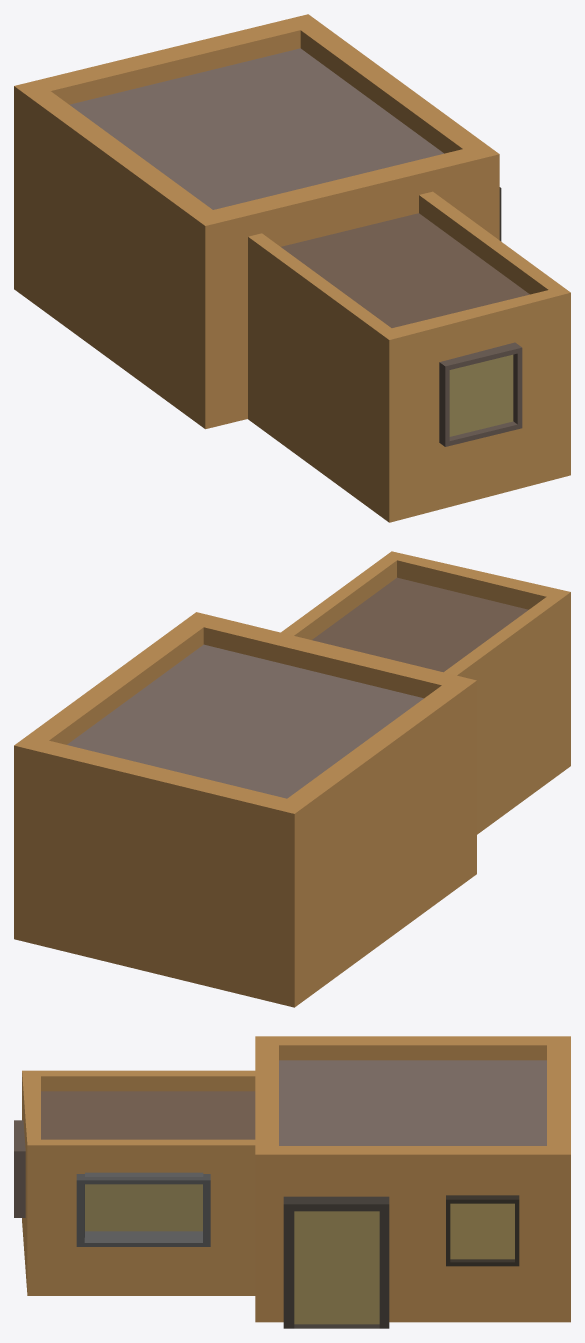
File: HouseWithExtension.fbx
3 renders of one model, top to bottom at view 1: azimuth 30°, elevation 25°; view 2: azimuth 150°, elevation 25°; view 3: azimuth 270°, elevation 25°, orthographic. The views are drawn at different scales.
Parts seen in each view (by area): view 1: House.003, House Long.003, Window Square.003; view 2: House.003, House Long.003; view 3: House.003, House Long.003, Door.002, Window Long.003, Window Square.004, Window Square.003.
Boxes of the visible parts, x1,y1,x2,y2 form: House.003: (14,14,499,429); House Long.003: (248,191,570,522); Window Square.003: (439,342,522,446); House.003: (14,612,476,1007); House Long.003: (281,551,570,834); House.003: (255,1036,570,1322); House Long.003: (22,1070,255,1295); Door.002: (283,1196,389,1328); Window Long.003: (76,1172,210,1246); Window Square.004: (446,1195,519,1266); Window Square.003: (14,1120,25,1217).
Bounding box in the file's own units: 992 × 617 × 1853.
